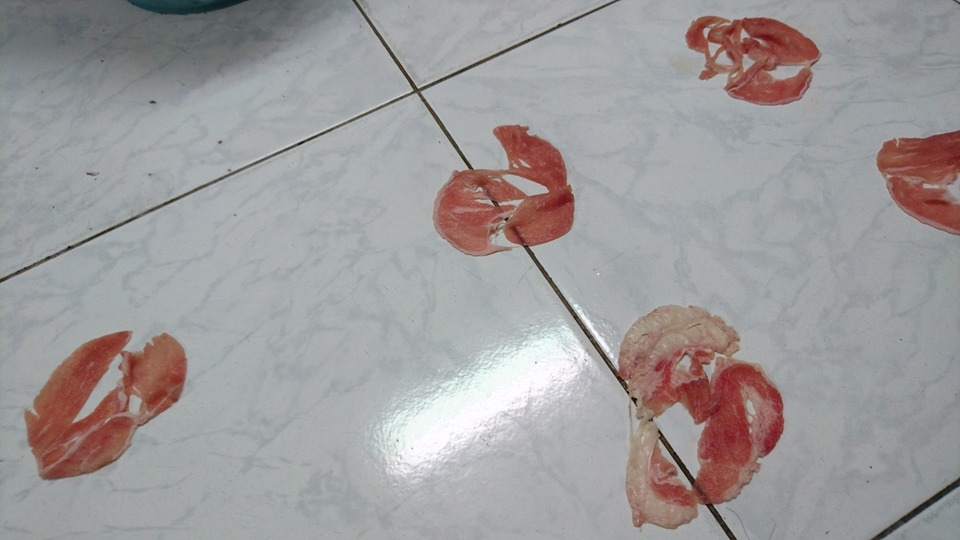restructured meat: (609, 293, 781, 537), (31, 324, 192, 484), (432, 125, 578, 260), (685, 2, 823, 104), (875, 131, 960, 235)
